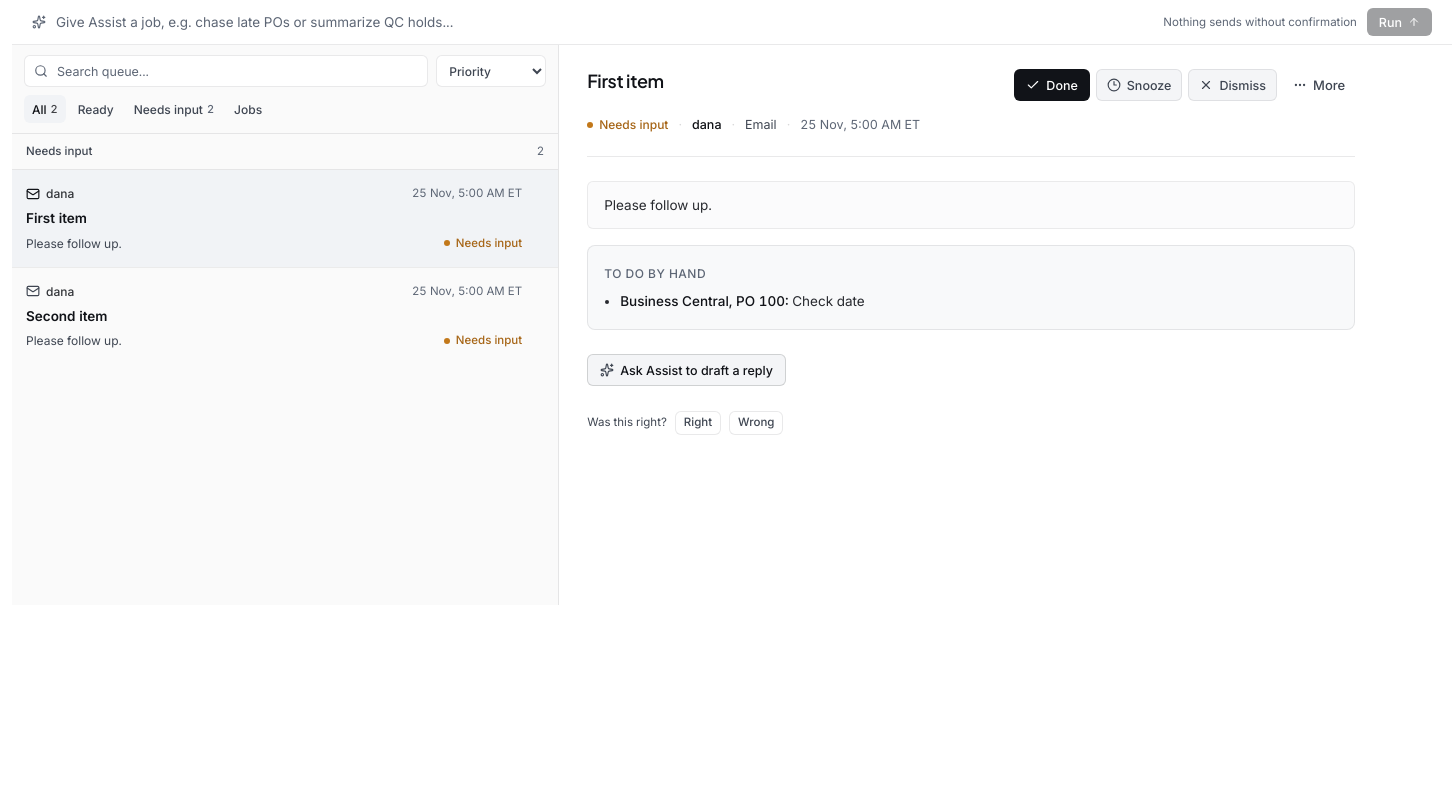
Test: AssistWorkbench optimistic item actions › immediately removes the item and shows toast on Make it a task without re-fetching drafts
The image size is (1452, 810).
expect the number of buttons with test id "assist-queue-item" is 2: met, box top-left (12, 170), bottom-right (558, 267); top-left (12, 268), bottom-right (558, 364)
Click the button "More". click: [1319, 85]
box: top-left (1283, 69), bottom-right (1355, 101)
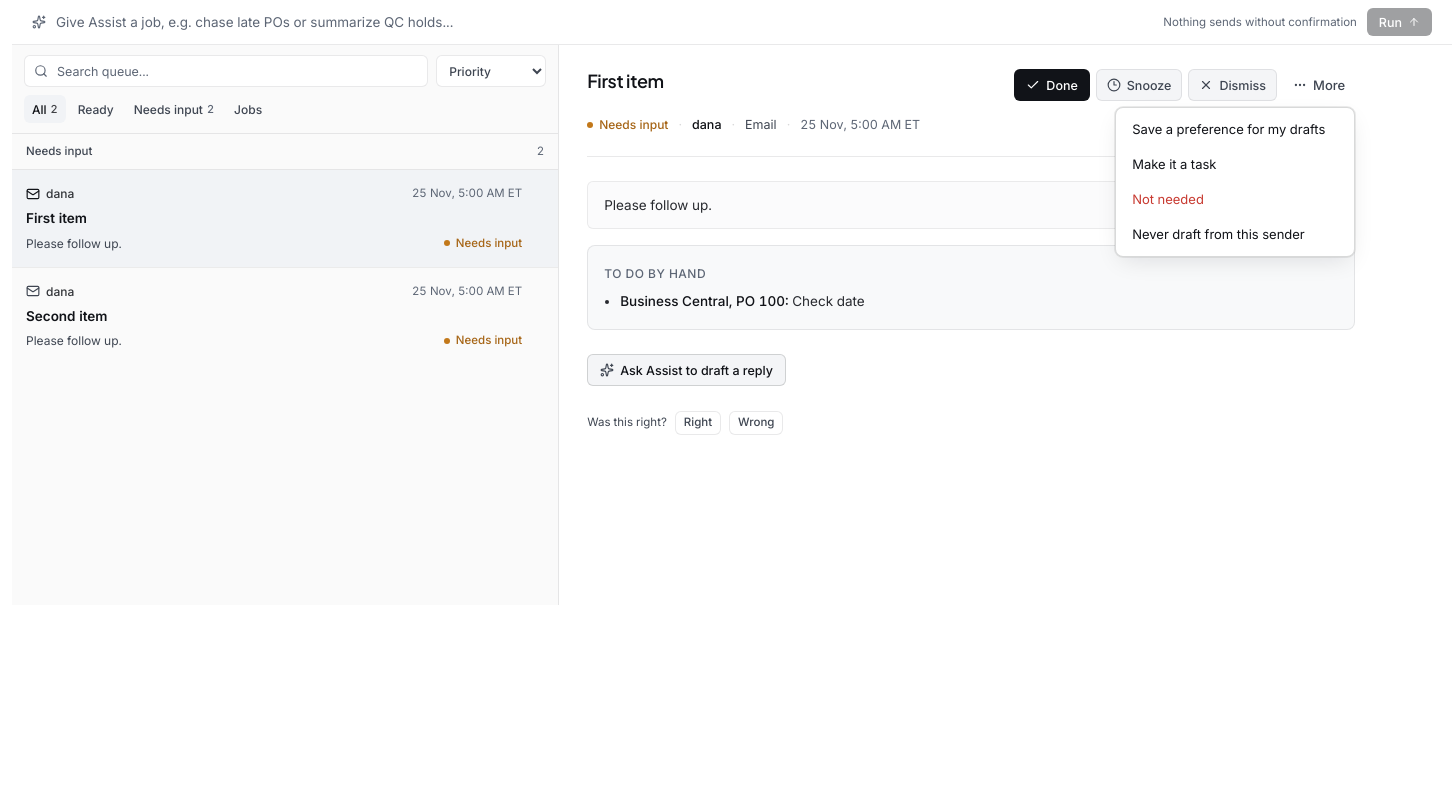
Click the menu item "Make it a task". click: [1235, 164]
box: top-left (1120, 147), bottom-right (1350, 182)
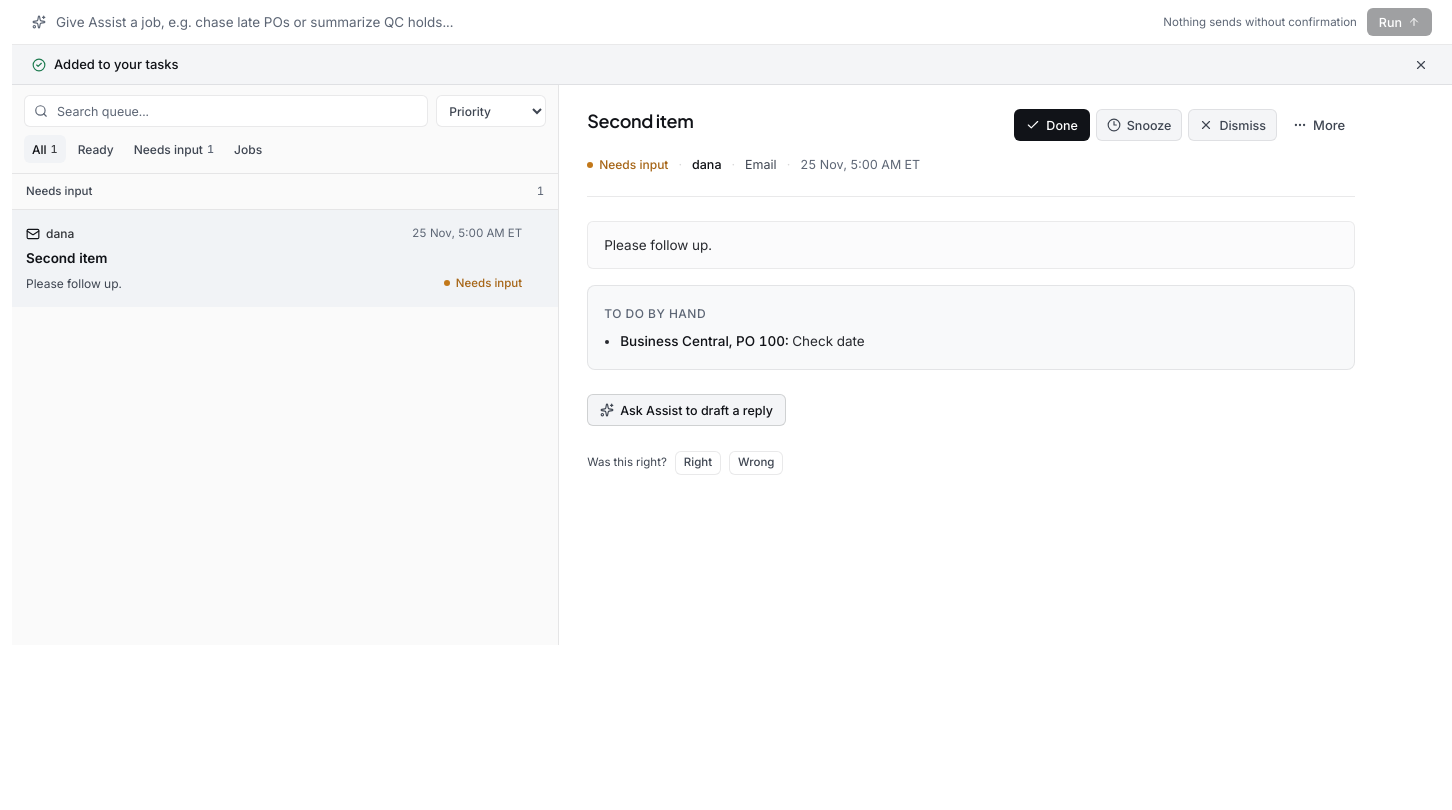
expect the number of buttons with test id "assist-queue-item" is 1: met, box top-left (12, 210), bottom-right (558, 307)
expect the message with test id "assist-toast" reads "Added to your tasks": met, box top-left (54, 56), bottom-right (179, 72)
